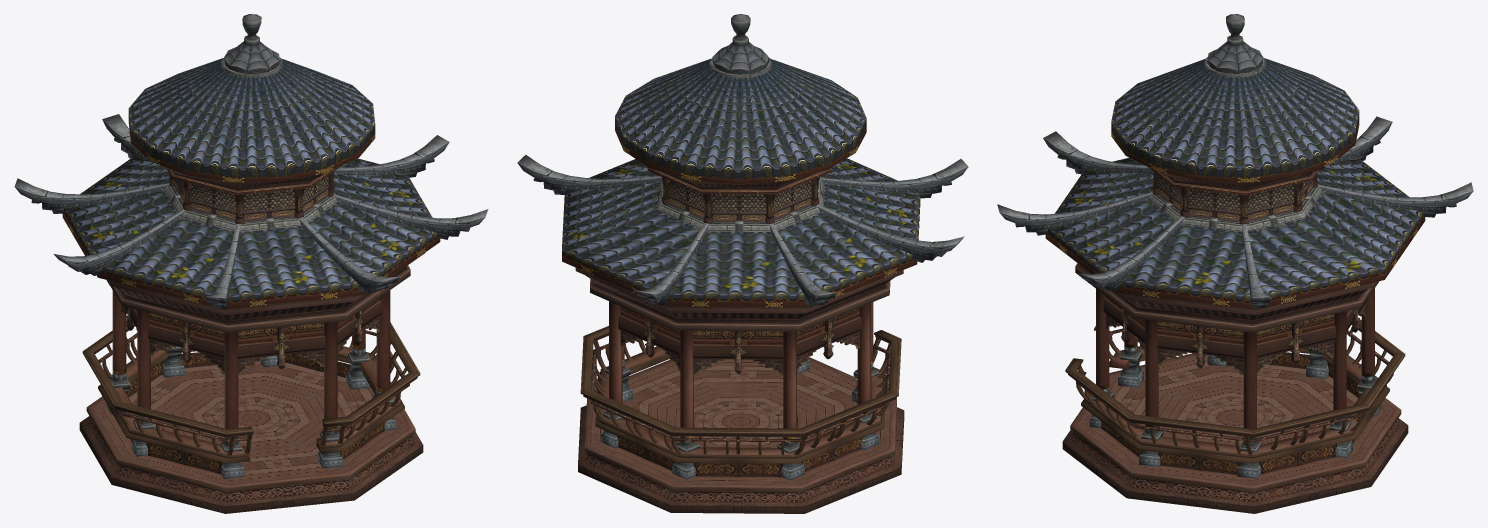
Rendered from S2_Build_XSC021a_1.FBX.
3 renders of one model, left to right at view 1: azimuth 30°, elevation 25°; view 2: azimuth 150°, elevation 25°; view 3: azimuth 270°, elevation 25°, orthographic.
Visible parts, largest first — view 1: S2_Build_XSC021a_1; view 2: S2_Build_XSC021a_1; view 3: S2_Build_XSC021a_1.
Boxes of the visible parts, x1,y1,x2,y2 form: S2_Build_XSC021a_1: [14, 14, 488, 513]; S2_Build_XSC021a_1: [517, 14, 968, 513]; S2_Build_XSC021a_1: [997, 14, 1473, 513].
Bounding box in the file's own units: 1270 × 1256 × 1273.
